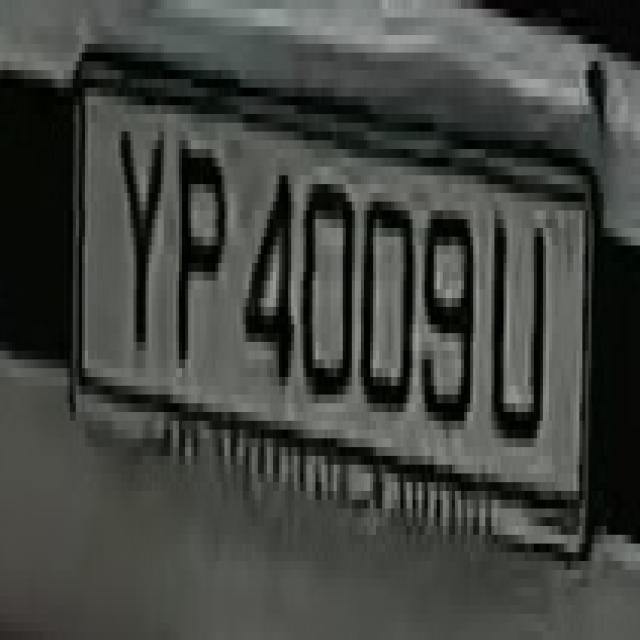0: (294, 149, 358, 438), (358, 184, 415, 456)
4: (243, 149, 303, 412)
9: (407, 166, 482, 430)
P: (170, 114, 227, 412)
U: (485, 202, 552, 456)
Y: (112, 79, 164, 386)
